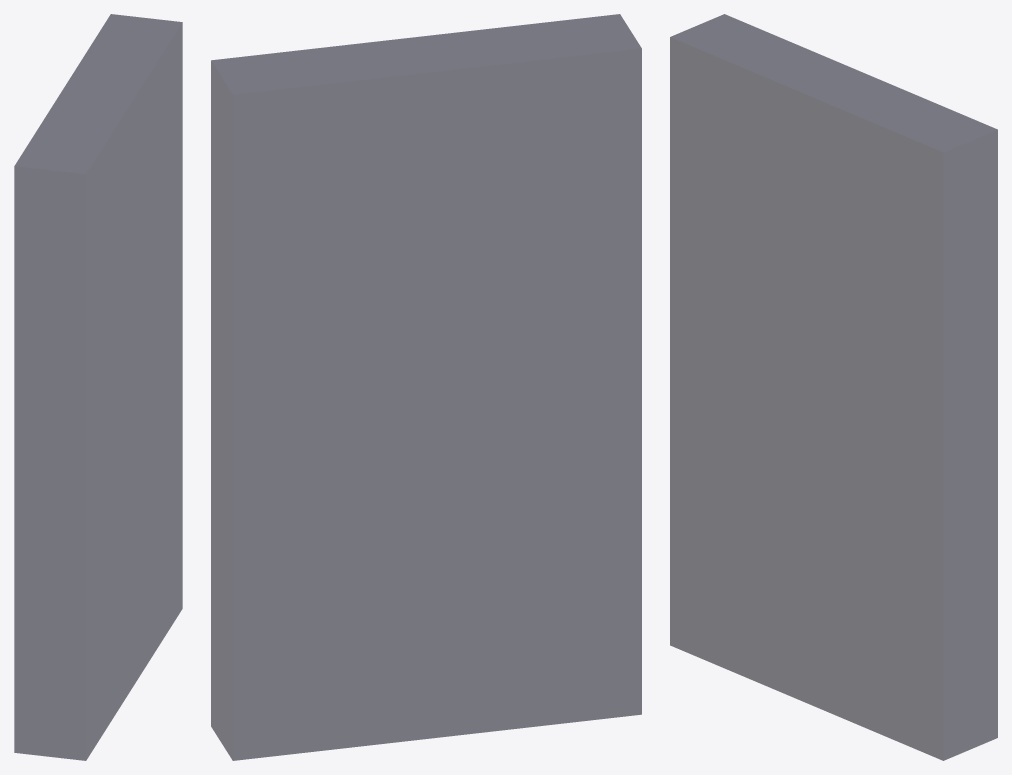
The model's file is Mana2.glb.
3 views of the same model, side by side, from view 1: azimuth 30°, elevation 25°; view 2: azimuth 150°, elevation 25°; view 3: azimuth 270°, elevation 25° (orthographic). The views are drawn at different scales.
Visible parts, largest first — view 1: wall_plain_glass.001; view 2: wall_plain_glass.001; view 3: wall_plain_glass.001.
Boxes of the visible parts, bbox=[...] form: wall_plain_glass.001: bbox=[14, 14, 182, 760]; wall_plain_glass.001: bbox=[211, 14, 641, 760]; wall_plain_glass.001: bbox=[670, 14, 997, 760].
Size of what is drawn, in the model's own units: 1.28 by 2.61 by 1.28.
1 material, 1 textured.
